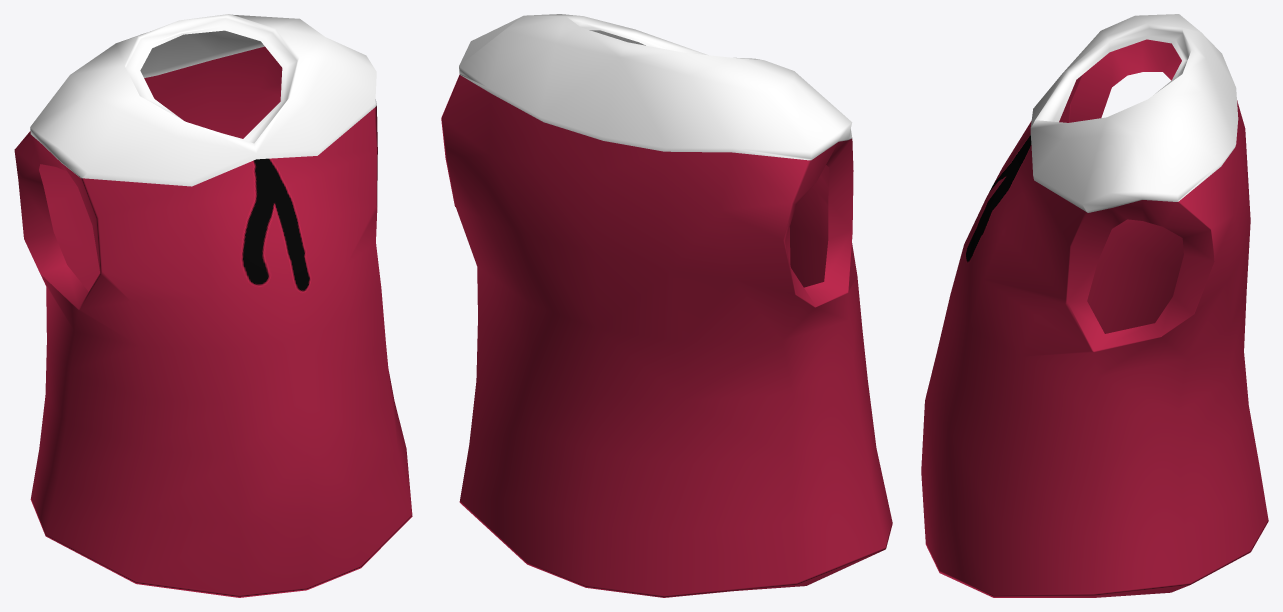
Rendered from AF_M_Jacket_G_01.fbx.
3 renders of one model, left to right at view 1: azimuth 30°, elevation 25°; view 2: azimuth 150°, elevation 25°; view 3: azimuth 270°, elevation 25°, orthographic. The views are drawn at different scales.
Visible parts, largest first — view 1: AF_M_Jacket_G_01; view 2: AF_M_Jacket_G_01; view 3: AF_M_Jacket_G_01.
Part boxes in pixels (x1,y1,x2,y2): AF_M_Jacket_G_01: (14,14,412,597); AF_M_Jacket_G_01: (441,14,892,597); AF_M_Jacket_G_01: (921,14,1268,597).
Size of the model in its own units: 405 by 510 by 325.
